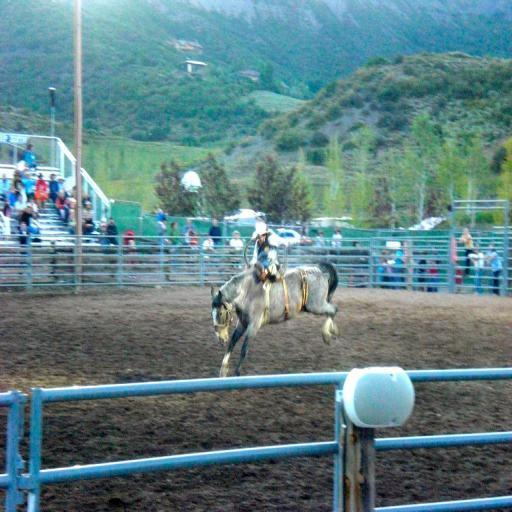horse: (210, 260, 338, 379)
